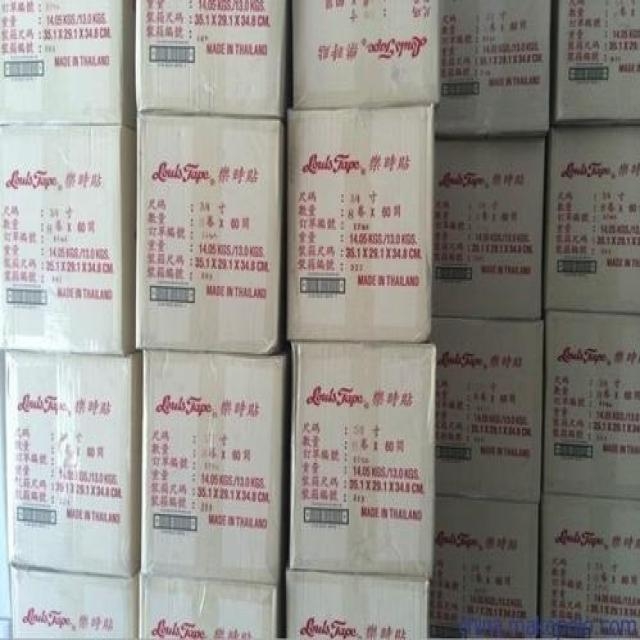box: (136, 115, 284, 353), (143, 345, 289, 583), (288, 340, 435, 575), (286, 105, 432, 340), (0, 124, 136, 354), (3, 352, 142, 576), (431, 316, 545, 505), (431, 140, 543, 322), (543, 312, 639, 499), (136, 1, 287, 119), (1, 1, 137, 130), (545, 128, 639, 311), (288, 1, 442, 109), (437, 2, 552, 139), (428, 498, 539, 638), (538, 499, 639, 638), (552, 0, 639, 125), (285, 573, 429, 638), (9, 567, 139, 638), (139, 573, 280, 638)
